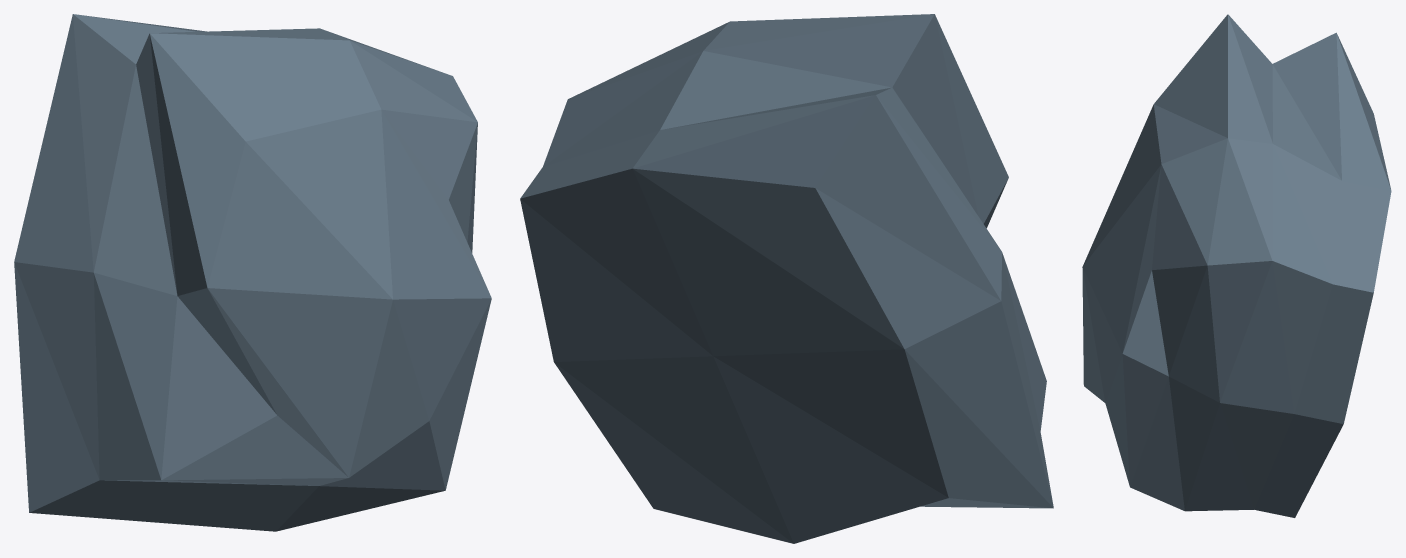
3 renders of one model, left to right at view 1: azimuth 30°, elevation 25°; view 2: azimuth 150°, elevation 25°; view 3: azimuth 270°, elevation 25°, orthographic. The views are drawn at different scales.
Size of the model in its own units: 0.3217 by 0.381 by 0.237.
2 materials, 2 textured.
